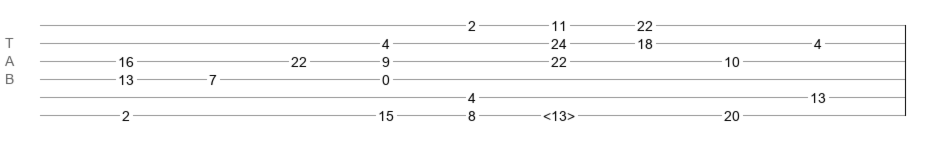0: (382, 72, 390, 82)
10: (724, 54, 740, 64)
11: (551, 18, 567, 28)
13: (118, 72, 134, 82), (810, 90, 826, 100)
15: (378, 108, 394, 118)
16: (118, 54, 134, 64)
18: (637, 36, 653, 46)
2: (122, 108, 130, 118), (468, 18, 476, 28)
20: (724, 108, 740, 118)
22: (291, 54, 307, 64), (551, 54, 567, 64), (637, 18, 653, 28)
24: (551, 36, 567, 46)
4: (382, 36, 390, 46), (468, 90, 476, 100), (814, 36, 822, 46)
7: (209, 72, 217, 82)
8: (468, 108, 476, 118)
9: (382, 54, 390, 64)
harmonic: (543, 108, 575, 118)
